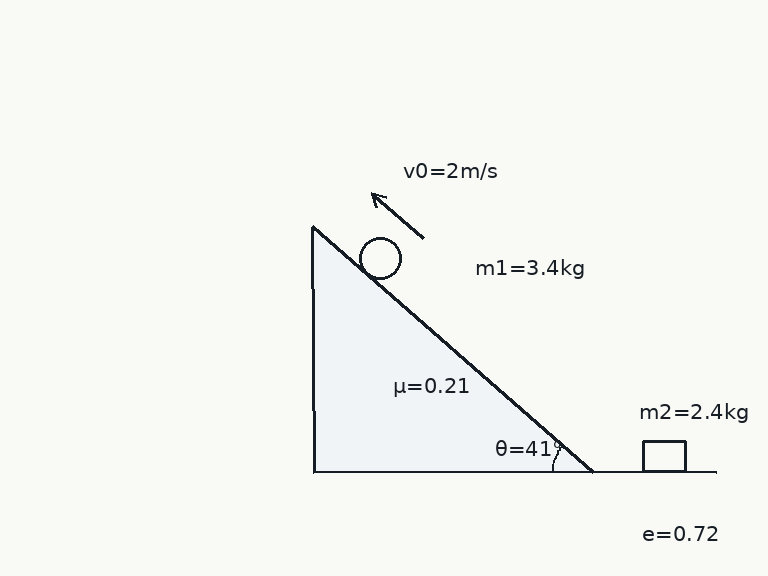ball: (357, 235, 403, 281)
block: (641, 438, 687, 473)
ramp: (311, 226, 595, 473)
